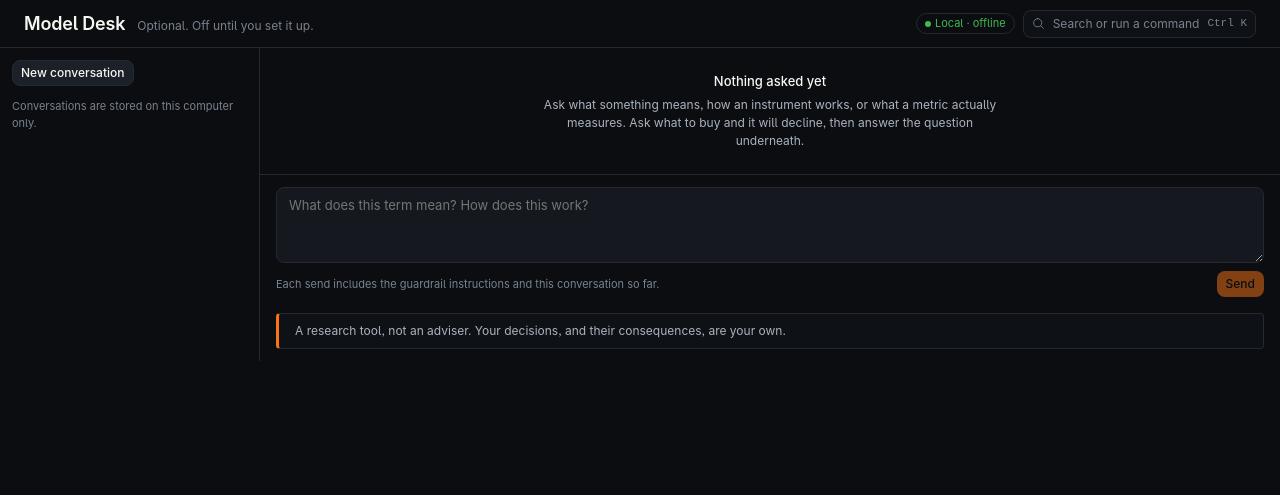
Test case: Model Desk — the advice nudge › offers a reframing without touching what was typed
This screenshot has width=1280, height=495.
Type "Should I buy bitcoin" into the text box named "your question". click: (770, 225)
box: top-left (276, 186), bottom-right (1264, 263)
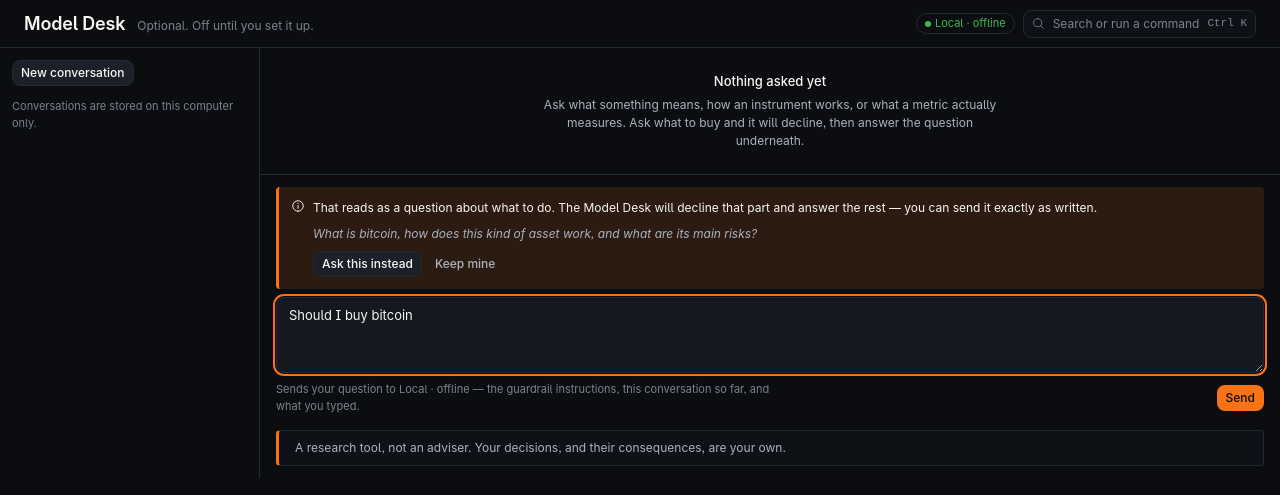
Check: the button "Send" is enabled, box top-left (1217, 384), bottom-right (1264, 410)
